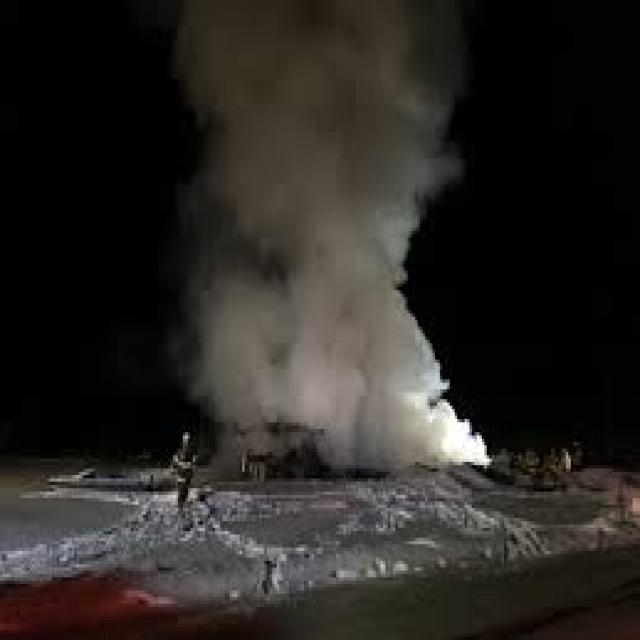smoke: (204, 16, 456, 467)
